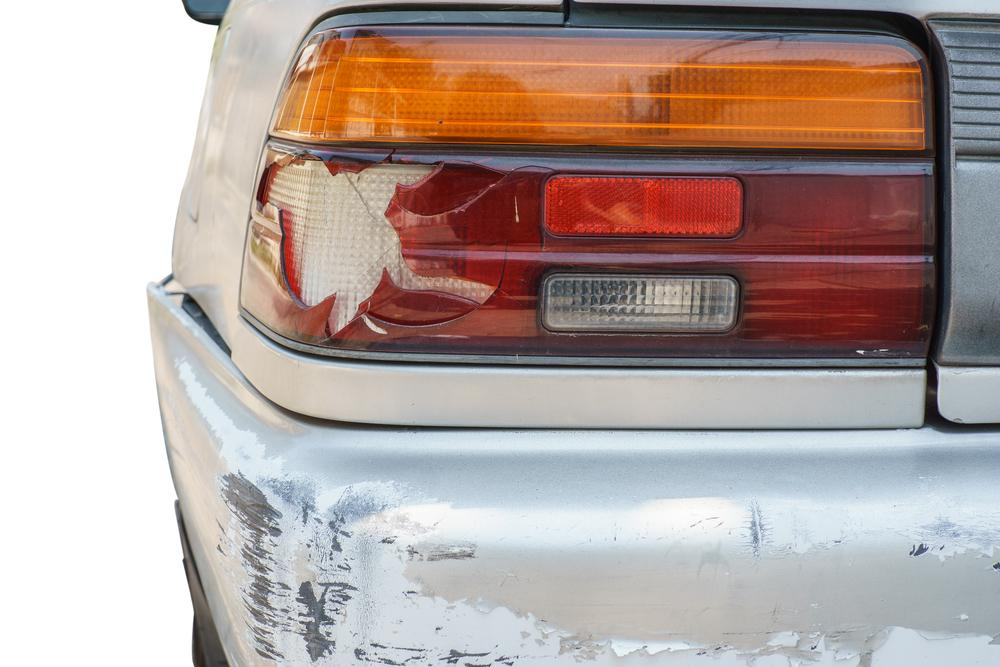lamp broken: (237, 7, 939, 361)
scratch: (172, 353, 1000, 667)
